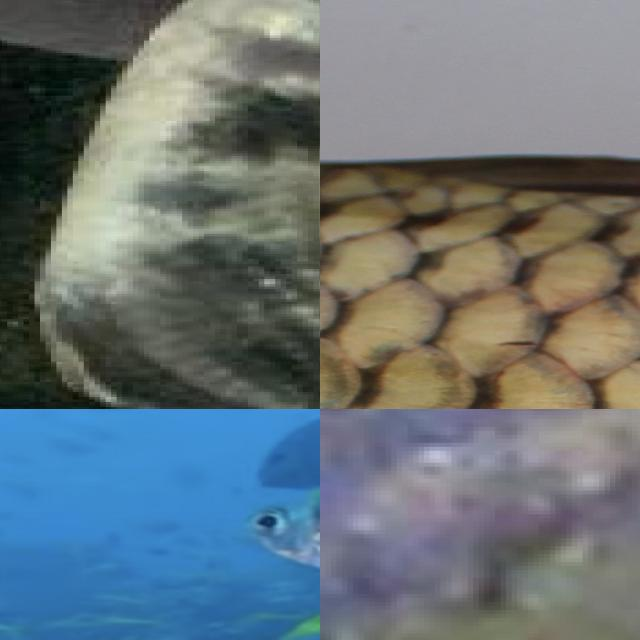fish: (0, 0, 320, 409), (320, 54, 640, 409), (320, 409, 640, 640)
